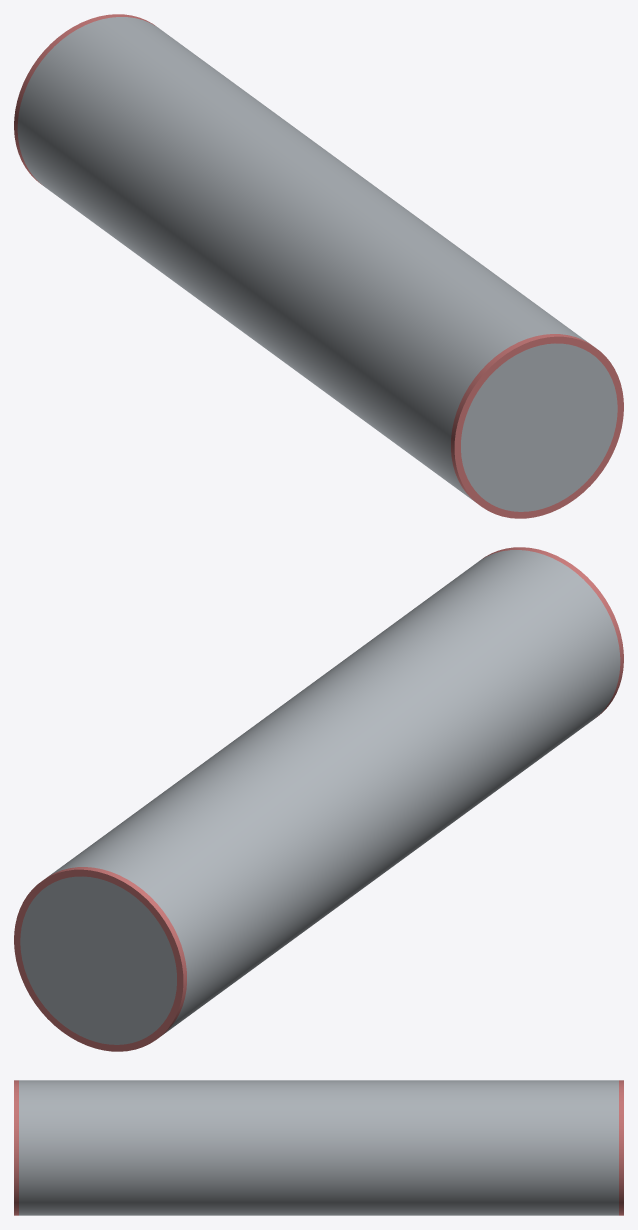
The model's file is step_19.glb.
3 renders of one model, top to bottom at view 1: azimuth 30°, elevation 25°; view 2: azimuth 150°, elevation 25°; view 3: azimuth 270°, elevation 25°, orthographic. The views are drawn at different scales.
Visible parts, largest first — view 1: part__shaft, removed__shaft; view 2: part__shaft, removed__shaft; view 3: part__shaft, removed__shaft.
Part boxes in pixels (left/top/right/bottom): part__shaft: left=17, top=17, right=617, bottom=511; removed__shaft: left=14, top=14, right=623, bottom=518; part__shaft: left=20, top=550, right=620, bottom=1044; removed__shaft: left=14, top=547, right=623, bottom=1051; part__shaft: left=19, top=1080, right=618, bottom=1215; removed__shaft: left=14, top=1080, right=623, bottom=1215.
Bounding box in the file's own units: 39.99 × 39.98 × 180.
